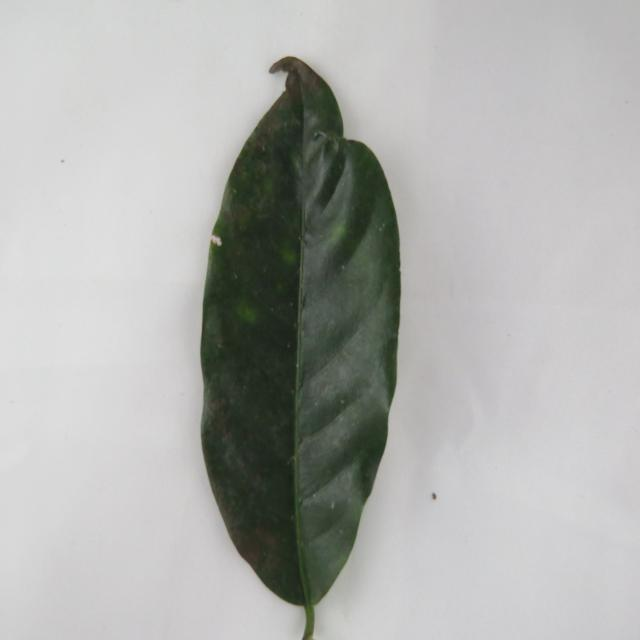DeficienciaNutricional-Boro: (201, 57, 400, 638)
